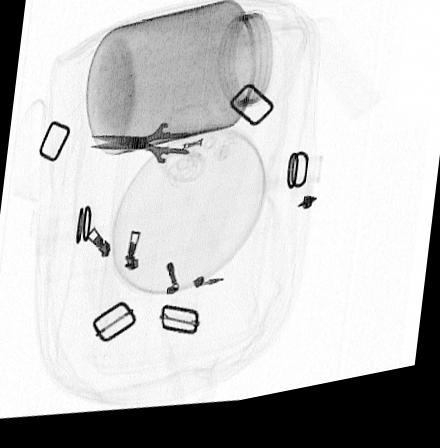Scissors: (85, 111, 215, 193)
